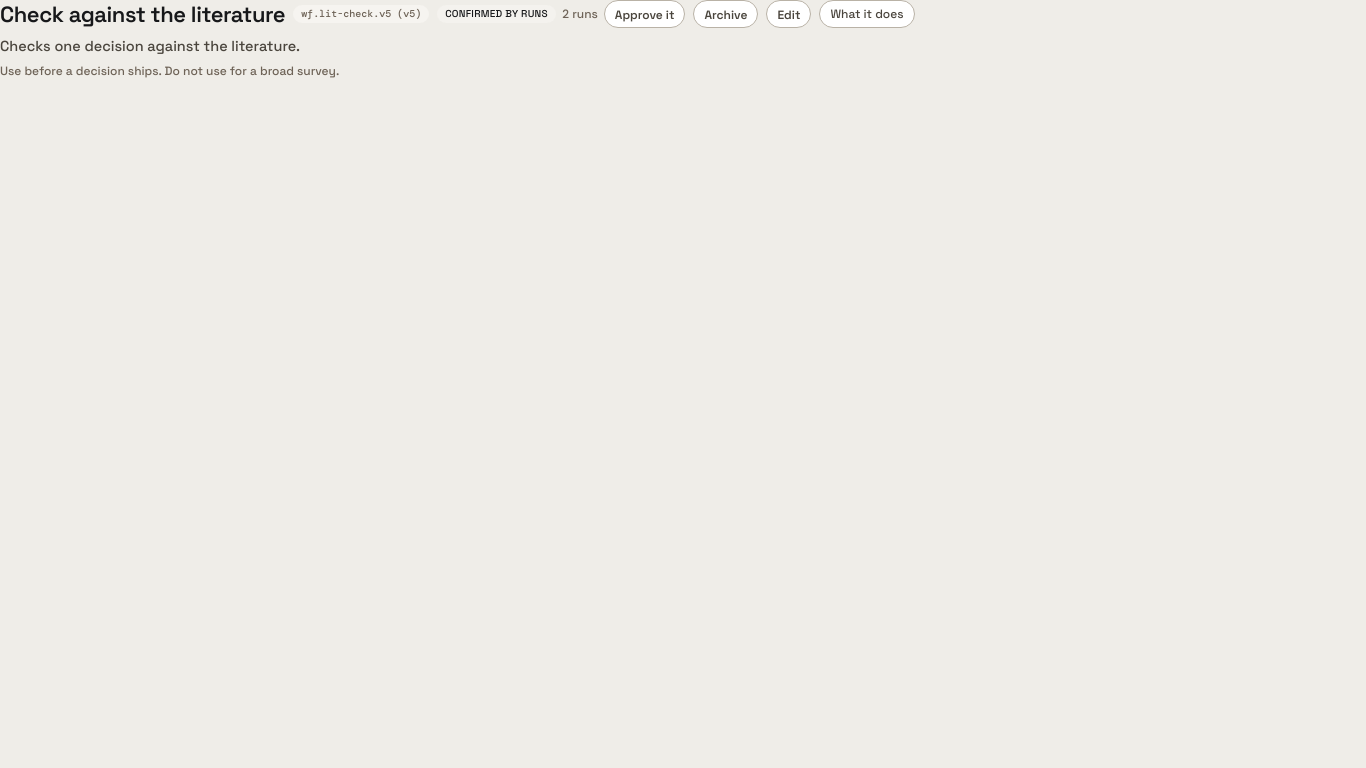
Test: WorkflowHeader › archives from the header, posting to the archive route and showing the archived badge
This screenshot has width=1366, height=768.
Click the button "Archive" at point(726, 14), box x1=693 y1=0 x2=758 y2=28
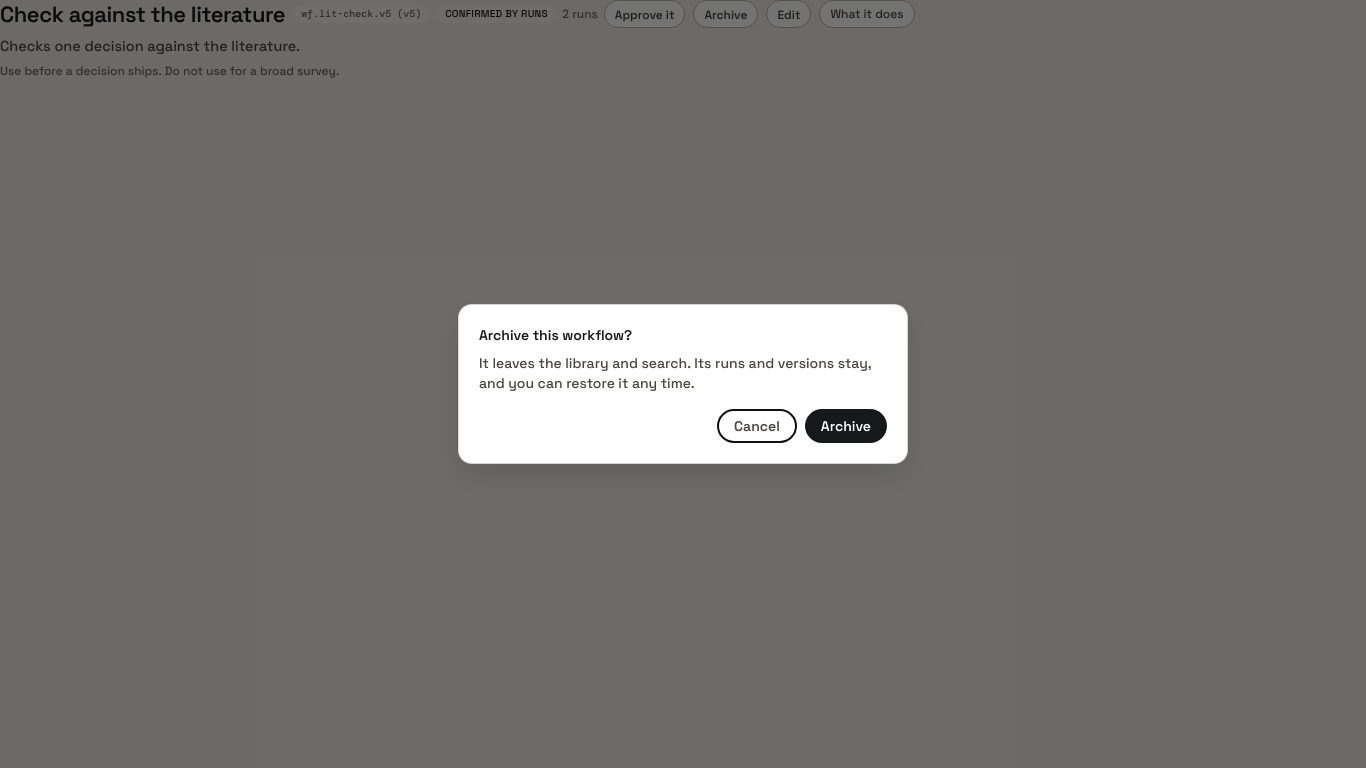
Click the button "Archive" at point(846, 426), box x1=805 y1=409 x2=887 y2=443
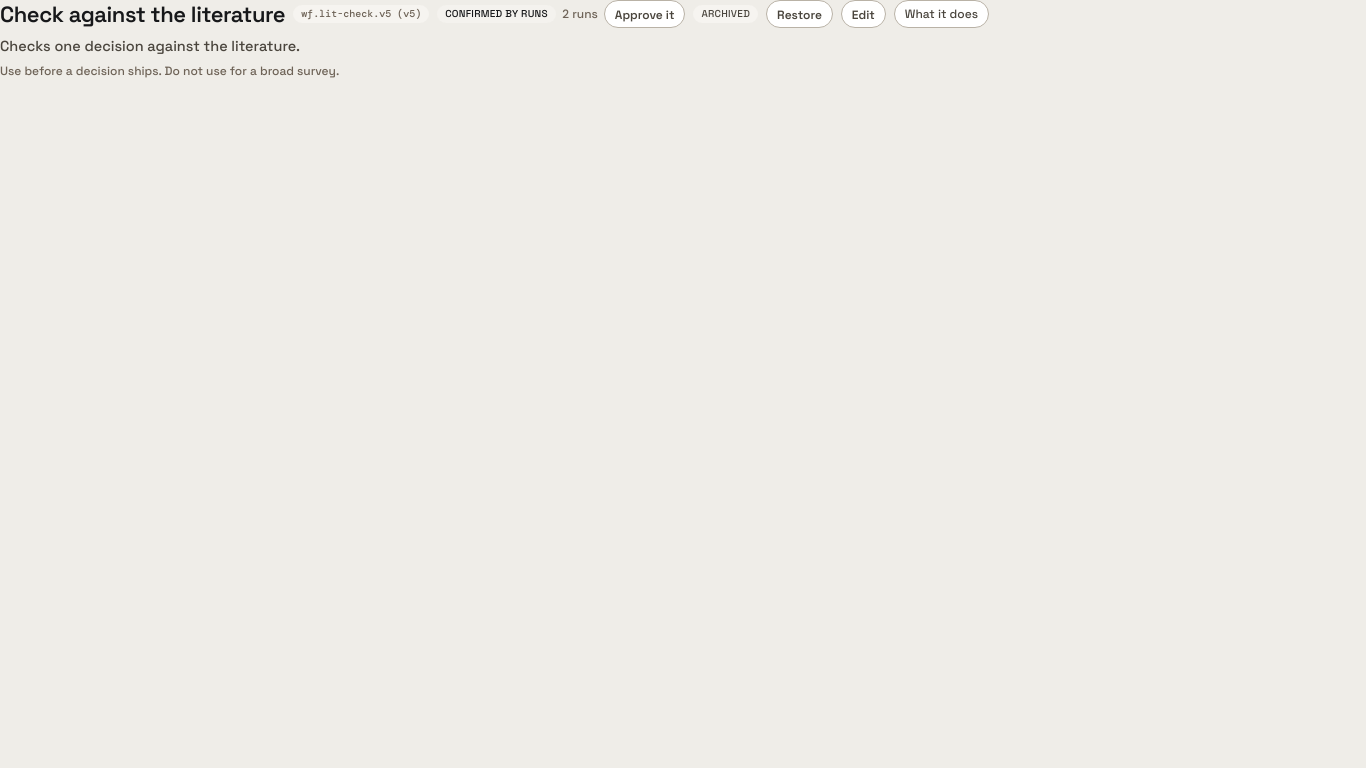
Check: the button "Restore" is shown, box x1=766 y1=0 x2=833 y2=28
Check: the text "archived" is shown, box x1=693 y1=5 x2=758 y2=23
